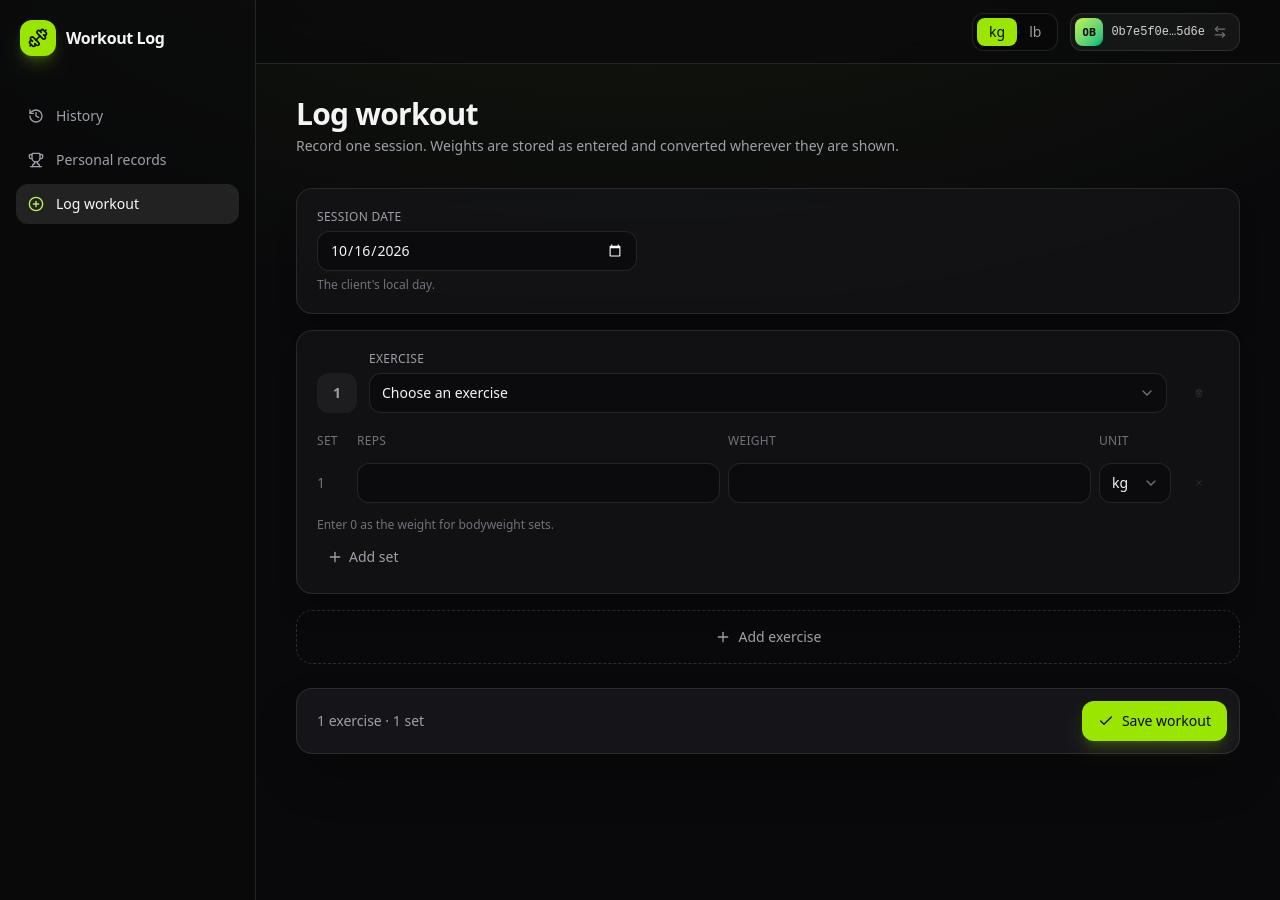
Scenario: LogWorkoutPage › still works where crypto.randomUUID is missing (plain-http origins such as a LAN address)
The image size is (1280, 900).
Click the button "Save workout" at (1154, 721), box [1082, 701, 1227, 741]
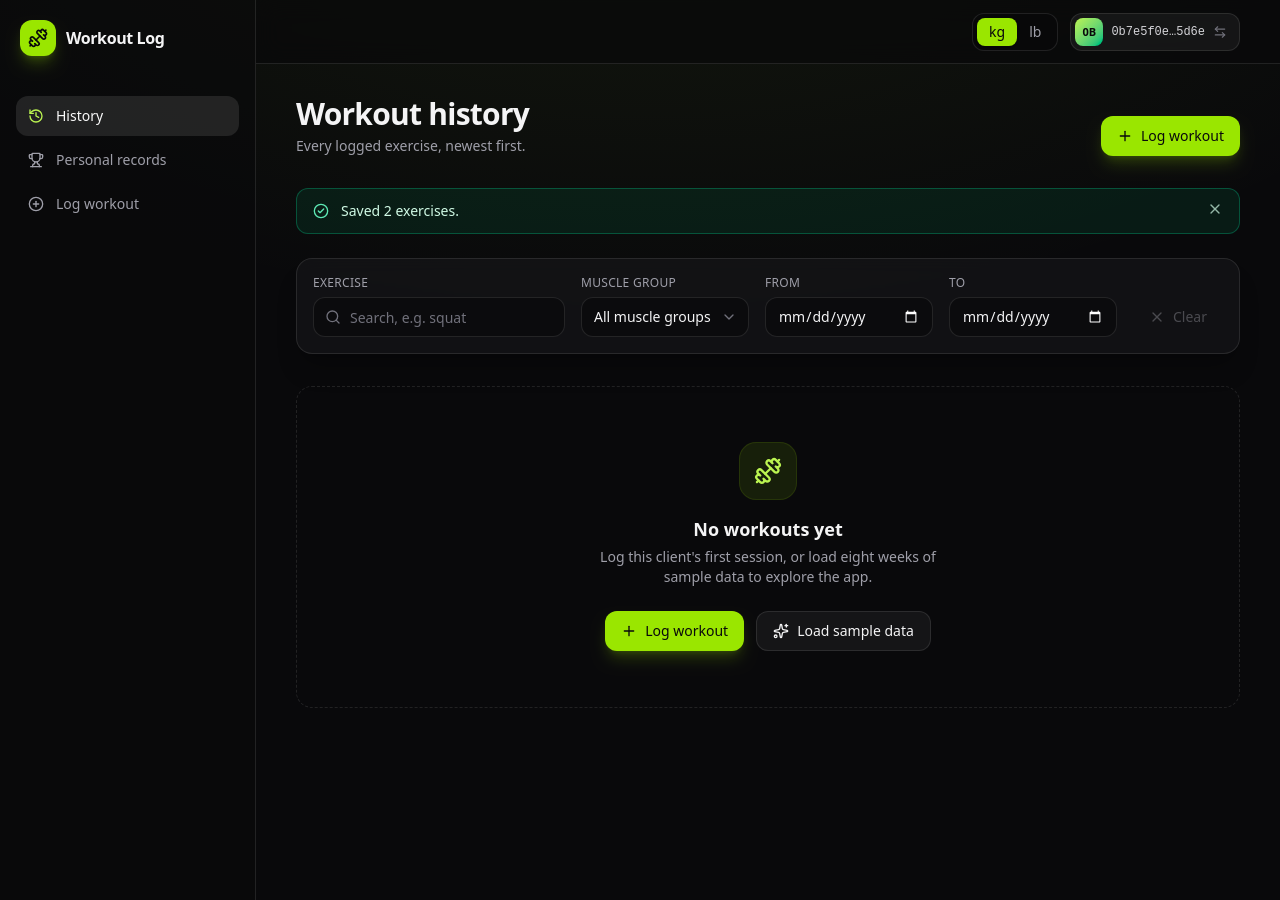
Expected: the heading "Workout history" is shown, [296, 96, 529, 132]
